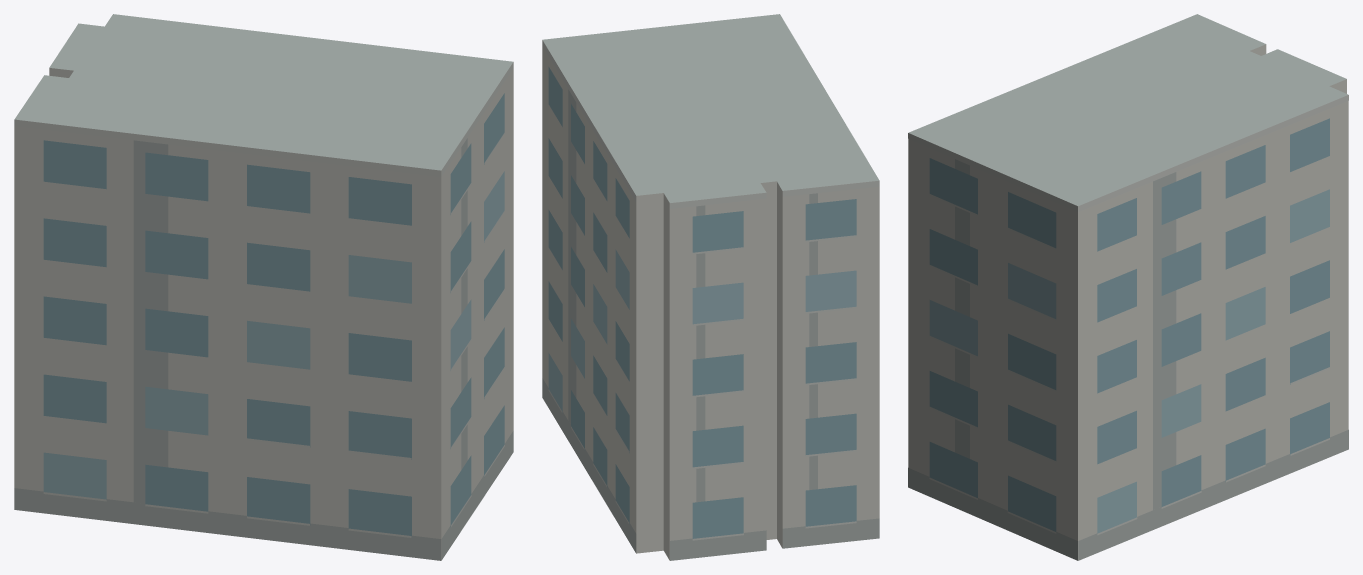
File: survey-upis-32842748.glb
3 views of the same model, side by side, from view 1: azimuth 30°, elevation 25°; view 2: azimuth 150°, elevation 25°; view 3: azimuth 270°, elevation 25° (orthographic). The views are drawn at different scales.
Visible parts, largest first — view 1: survey-upis-32842748.tmp; view 2: survey-upis-32842748.tmp; view 3: survey-upis-32842748.tmp.
Boxes of the visible parts, x1=… form: survey-upis-32842748.tmp: x1=14, y1=14, x2=513, y2=560; survey-upis-32842748.tmp: x1=542, y1=14, x2=879, y2=560; survey-upis-32842748.tmp: x1=908, y1=14, x2=1348, y2=560.
Bounding box in the file's own units: 16.75 × 14.4 × 16.22.
